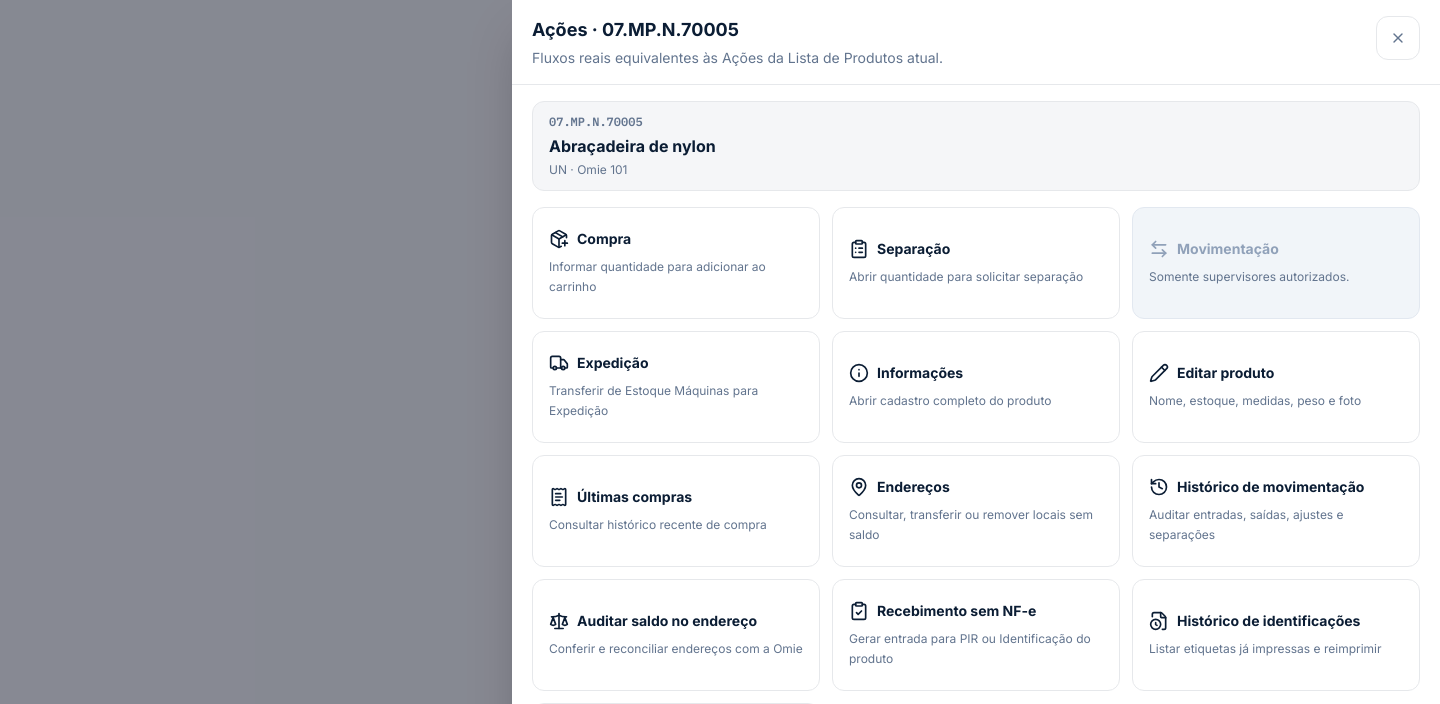
Test: ProductActionsPanel › registra compra com a quantidade informada e atualiza a lista
This screenshot has width=1440, height=704.
Click the button "Compra Informar quantidade para adicionar ao carrinho".
click(676, 263)  # box [532, 207, 820, 319]
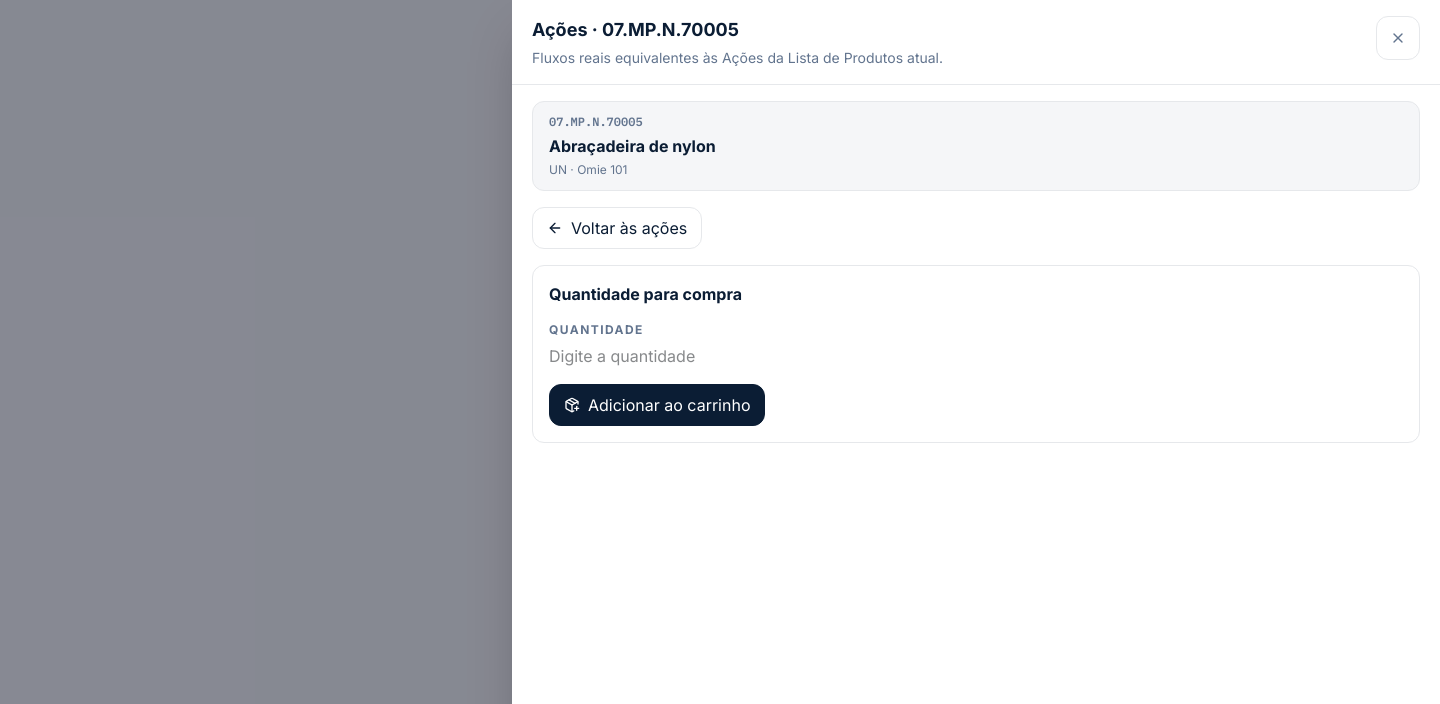
Type "12" into the number field labelled "Quantidade".
click(666, 356); type("12")  # box [549, 344, 783, 368]
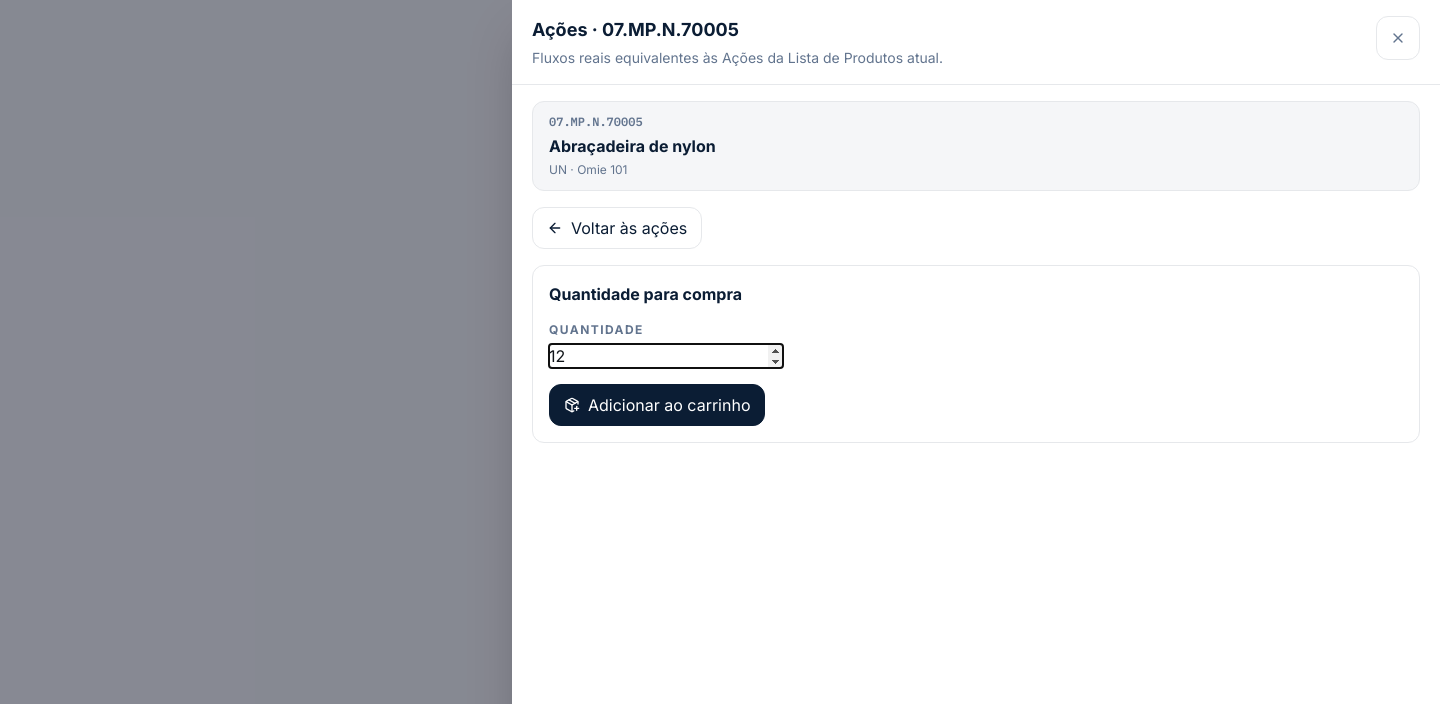
Click the button "Adicionar ao carrinho".
click(657, 405)  # box [549, 384, 766, 426]
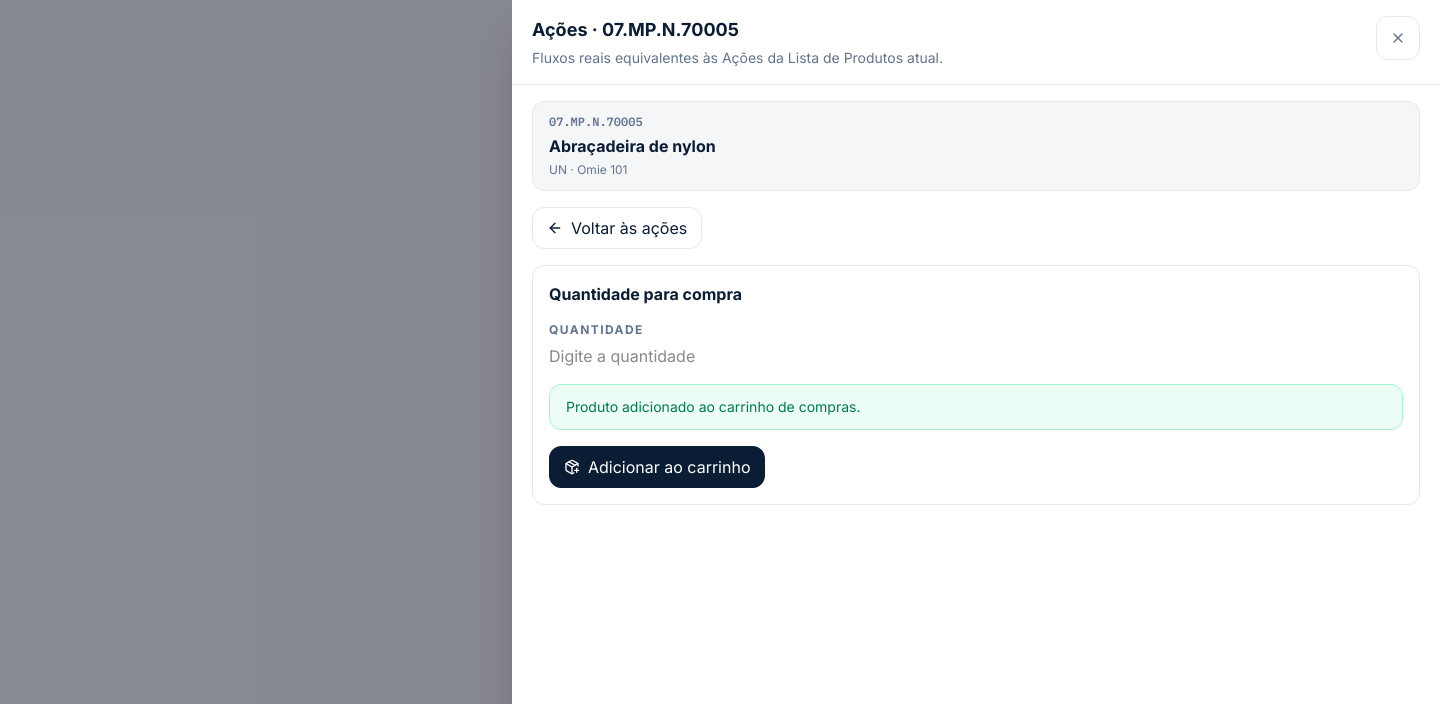
Result: the text "Produto adicionado ao carrinho de compras." is shown at [549, 384, 1403, 430]
